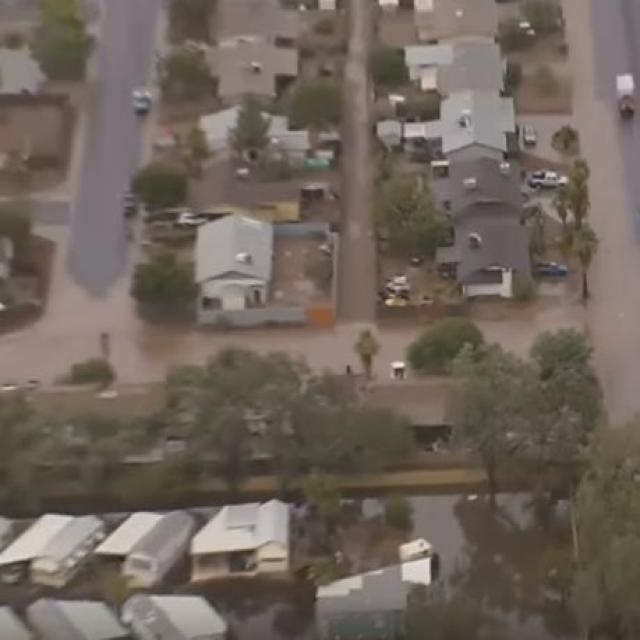flooded_areas: (131, 0, 623, 427)
